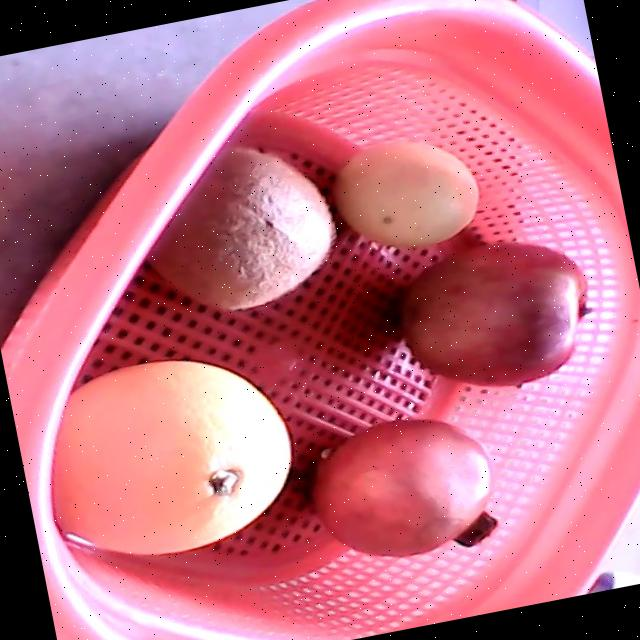apple: (401, 243, 591, 388)
kiwi: (146, 149, 334, 310)
lemon: (331, 141, 477, 248)
orange: (49, 361, 292, 556)
pomegranate: (311, 419, 497, 558)
